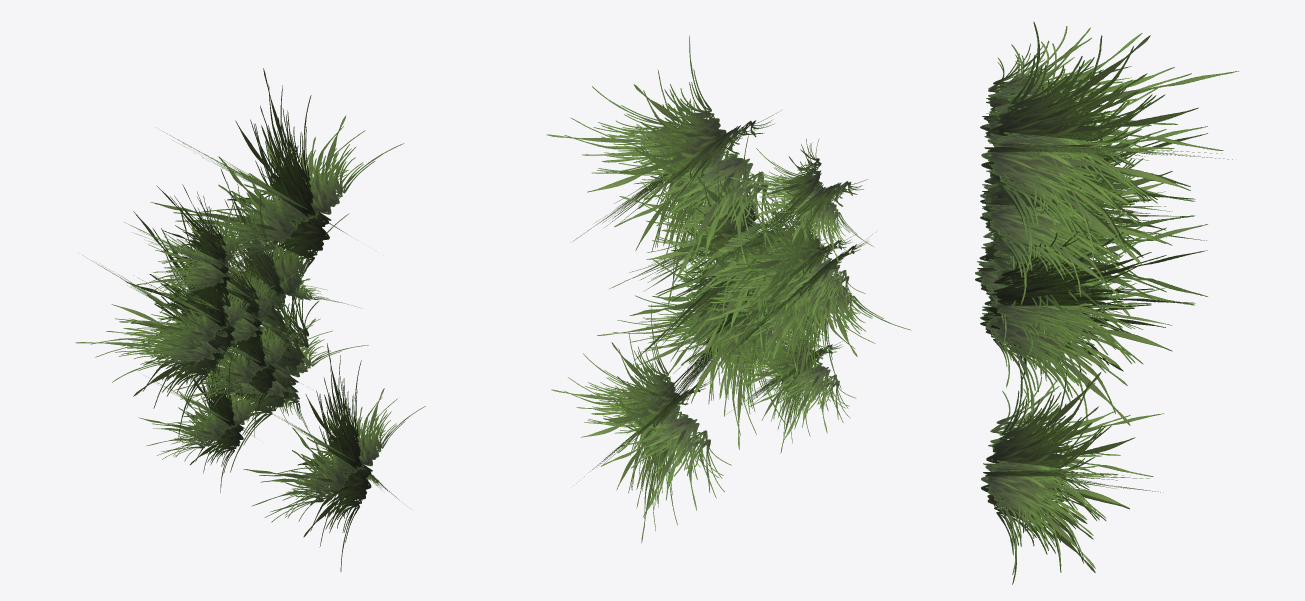
The model's file is grass_02.glb.
The picture shows the model from 3 angles, left to right: view 1: azimuth 30°, elevation 25°; view 2: azimuth 150°, elevation 25°; view 3: azimuth 270°, elevation 25°; orthographic projection. The views are drawn at different scales.
Parts seen in each view (by area): view 1: Object_2; view 2: Object_2; view 3: Object_2.
Boxes of the visible parts, <box> form: Object_2: <box>75,68,425,571</box>; Object_2: <box>546,35,911,543</box>; Object_2: <box>975,21,1238,584</box>.
Size of the model in its own units: 3.12 by 4.49 by 2.39.
1 material, 1 textured.
